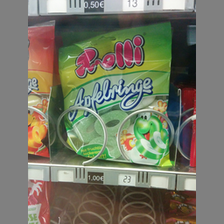candy: (58, 22, 173, 168)
